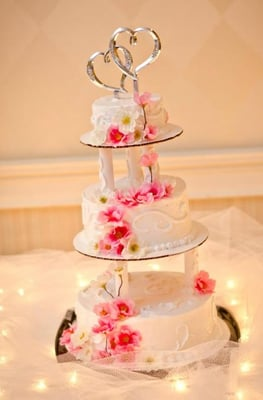curry: (0, 244, 262, 398)
